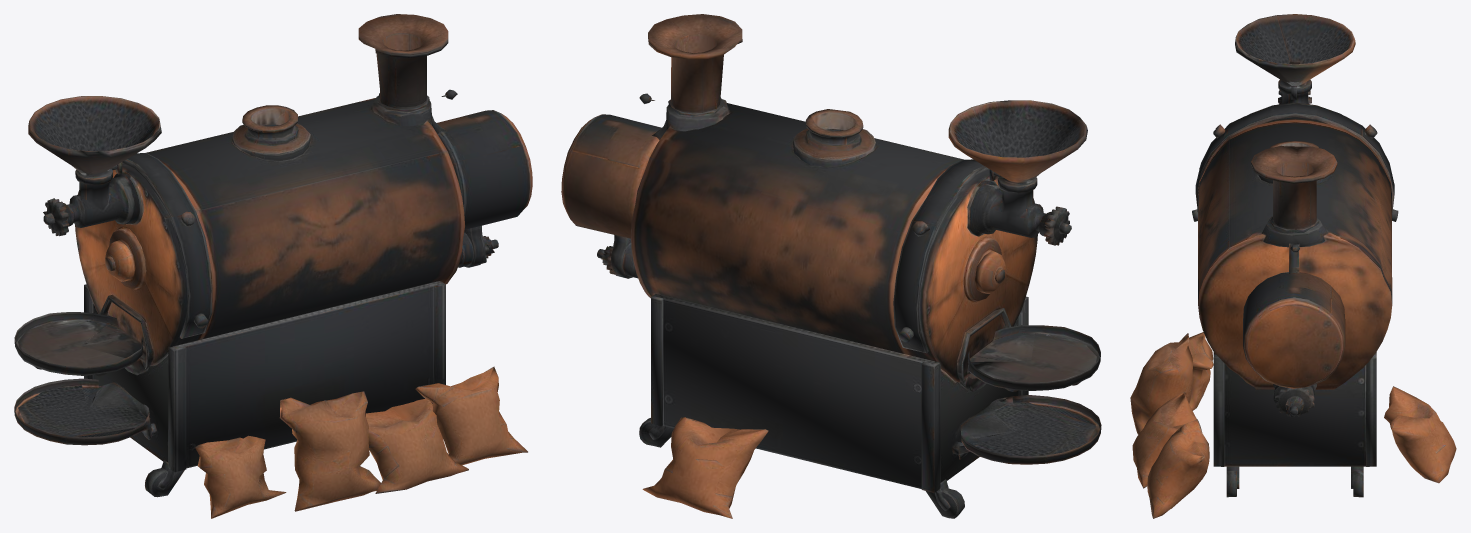
File: office-coffee-roaster.glb
The picture shows the model from 3 angles, left to right: view 1: azimuth 30°, elevation 25°; view 2: azimuth 150°, elevation 25°; view 3: azimuth 270°, elevation 25°; orthographic projection. The views are drawn at different scales.
Visible parts, largest first — view 1: coffee-roaster; view 2: coffee-roaster; view 3: coffee-roaster.
Boxes of the visible parts, left/top/right/bottom form: coffee-roaster: left=14, top=14, right=532, bottom=518; coffee-roaster: left=561, top=14, right=1101, bottom=518; coffee-roaster: left=1130, top=14, right=1456, bottom=518.
Bounding box in the file's own units: 2.43 × 1.8 × 1.58.
1 material, 1 textured.
